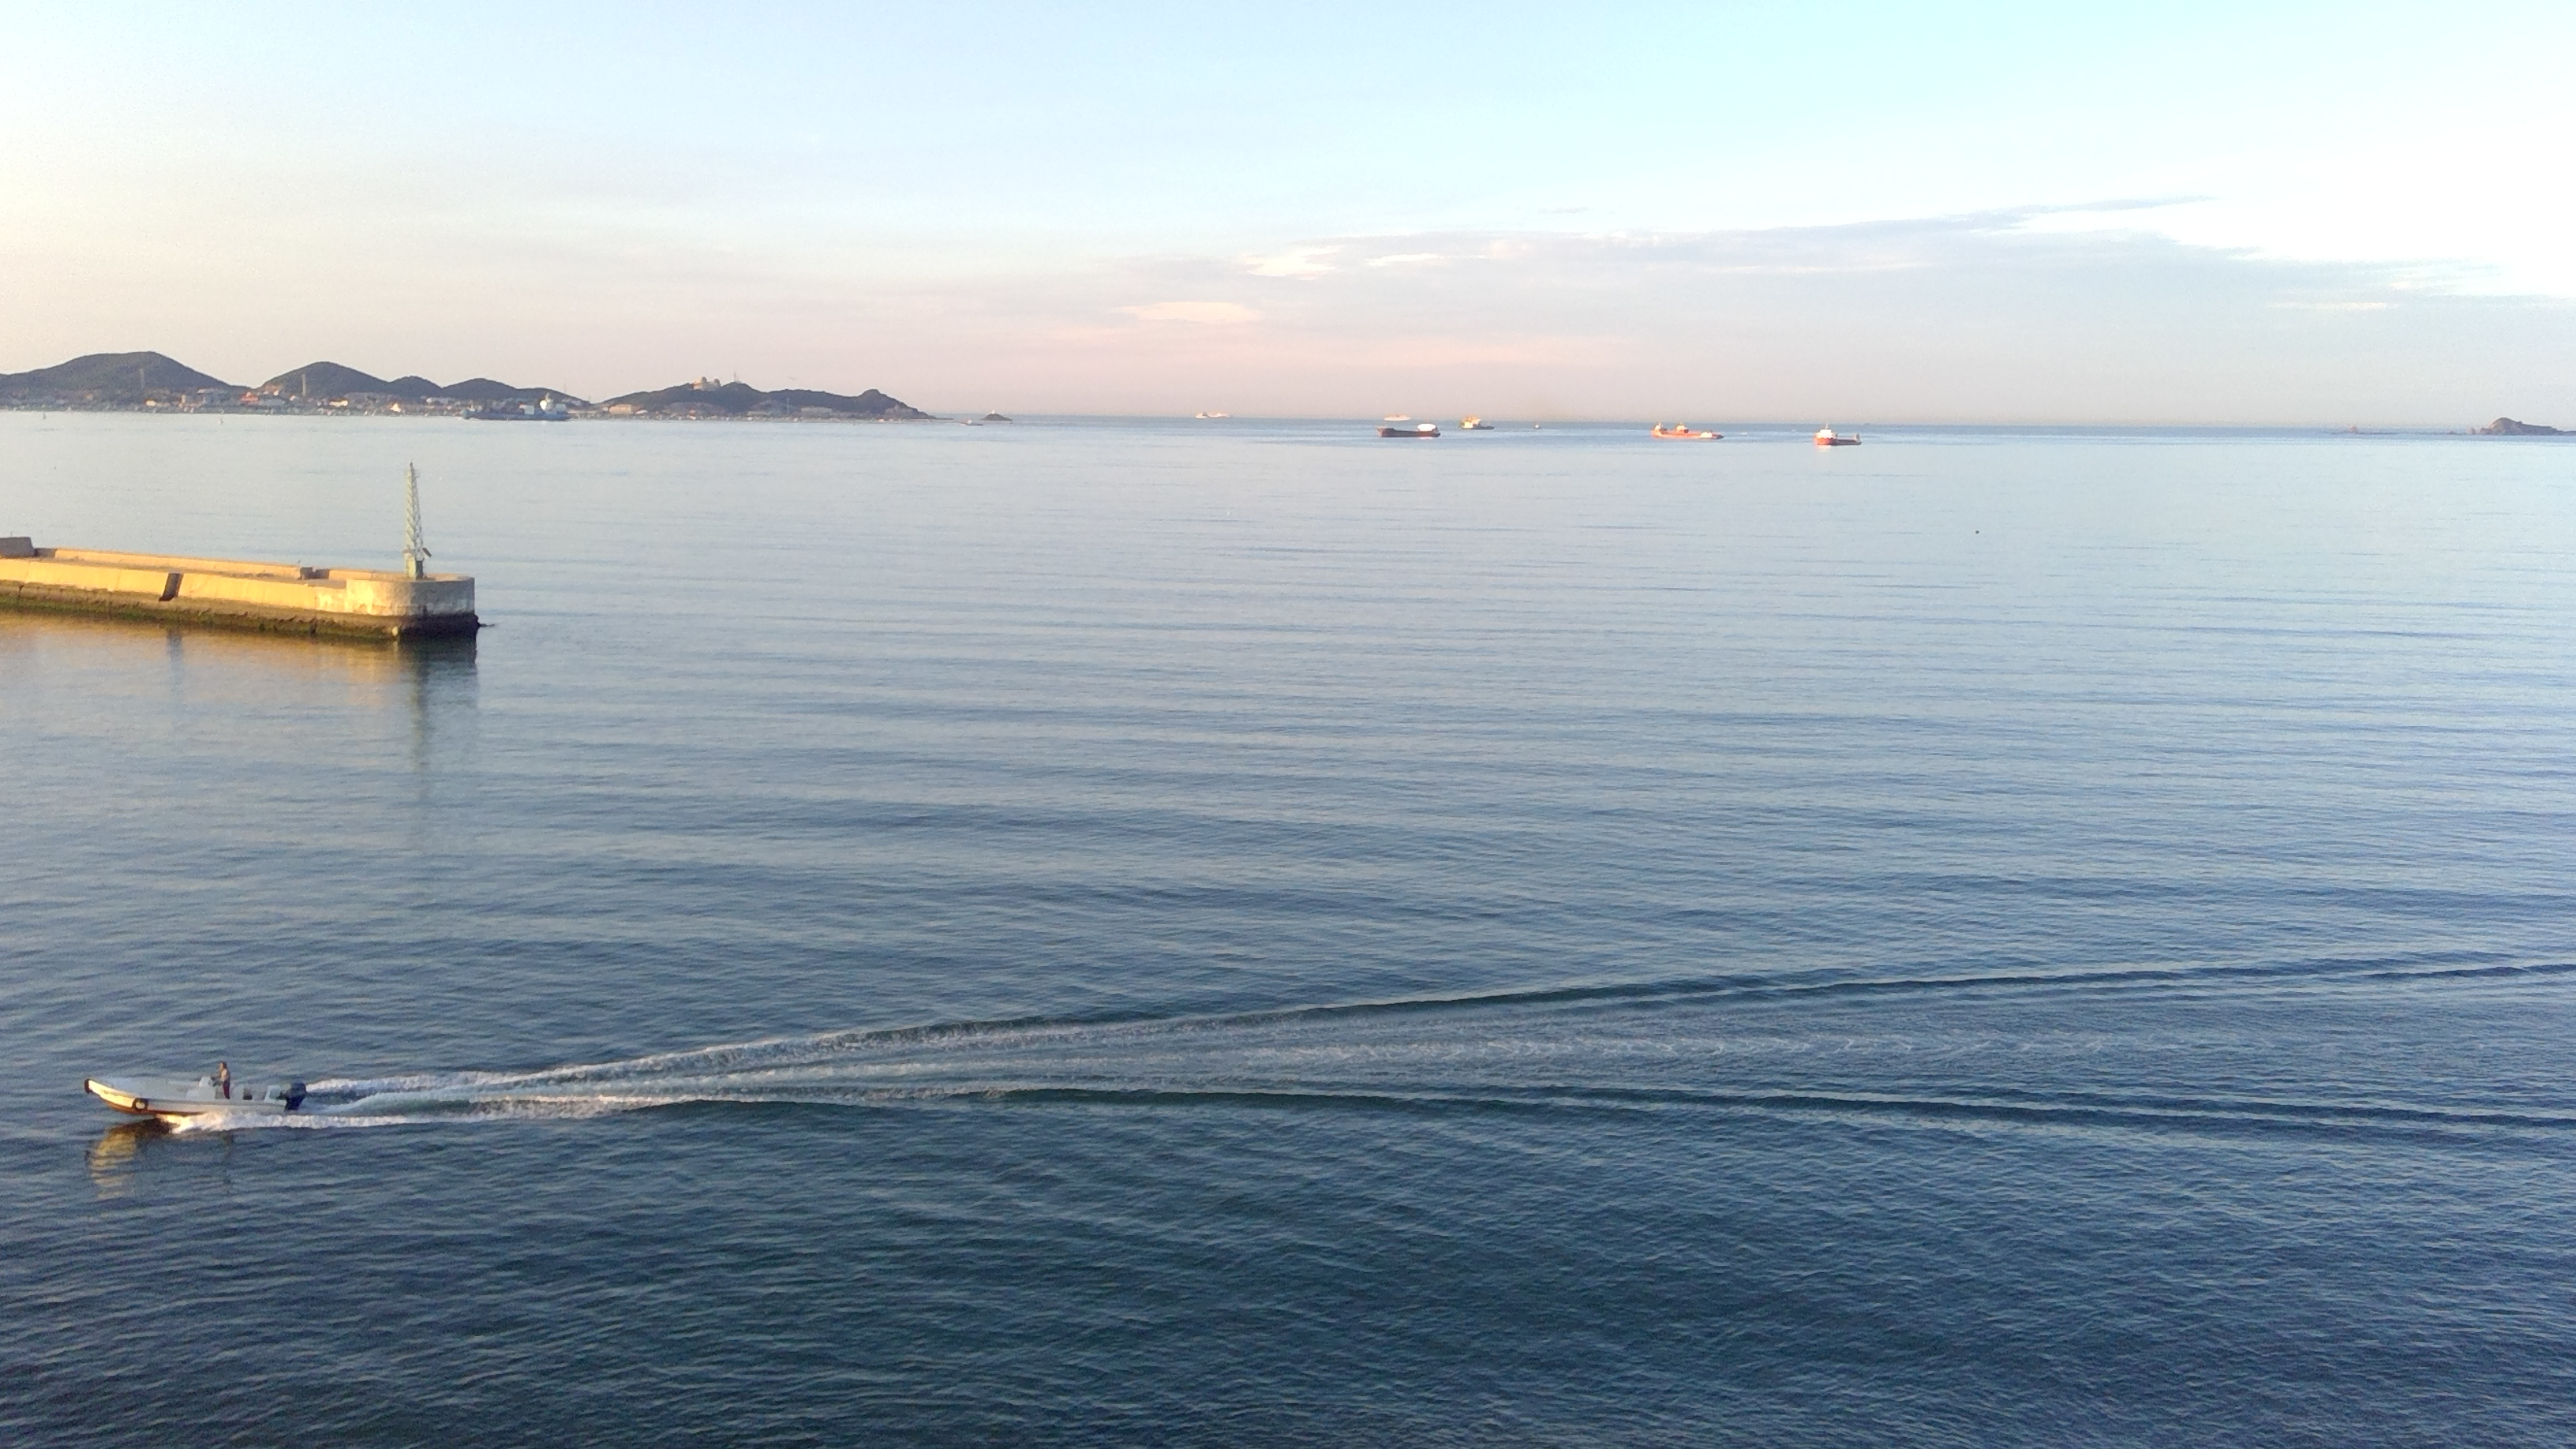boat: (69, 1024, 334, 1164)
harbor: (0, 462, 520, 658)
rock: (5, 334, 226, 407), (600, 368, 947, 414), (239, 350, 389, 418), (396, 366, 593, 414), (2473, 395, 2569, 449)
ship: (1369, 402, 1451, 458), (1792, 400, 1875, 455), (1629, 418, 1741, 449)
